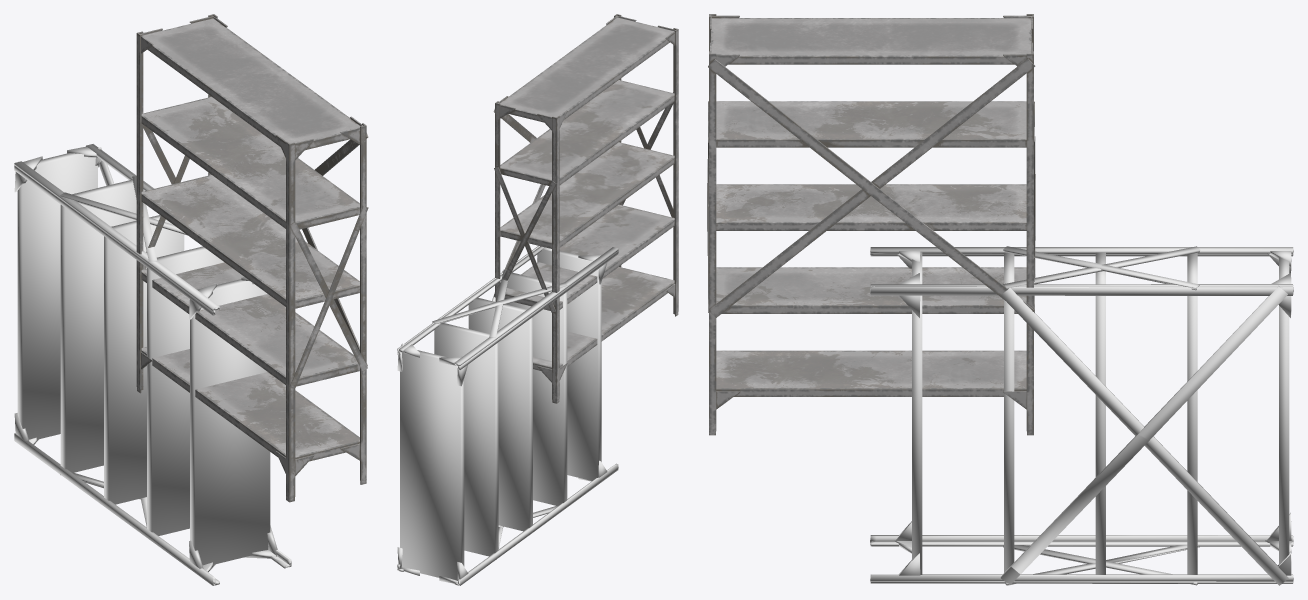
The model's file is SM_Racks_Small.fbx.
The picture shows the model from 3 angles, left to right: view 1: azimuth 30°, elevation 25°; view 2: azimuth 150°, elevation 25°; view 3: azimuth 270°, elevation 25°; orthographic projection. The views are drawn at different scales.
Parts seen in each view (by area): view 1: SM_Racks_Small_ConvexHulls, SM_Racks_Small; view 2: SM_Racks_Small_ConvexHulls, SM_Racks_Small; view 3: SM_Racks_Small, SM_Racks_Small_ConvexHulls.
Boxes of the visible parts, box(x1,y1,x2,y2) form: SM_Racks_Small_ConvexHulls: box(14, 144, 291, 585); SM_Racks_Small: box(136, 14, 368, 502); SM_Racks_Small_ConvexHulls: box(397, 246, 618, 585); SM_Racks_Small: box(493, 14, 678, 403); SM_Racks_Small: box(707, 14, 1035, 435); SM_Racks_Small_ConvexHulls: box(870, 246, 1293, 585).
Bounding box in the file's own units: 0.5516 × 3.19 × 3.2.
